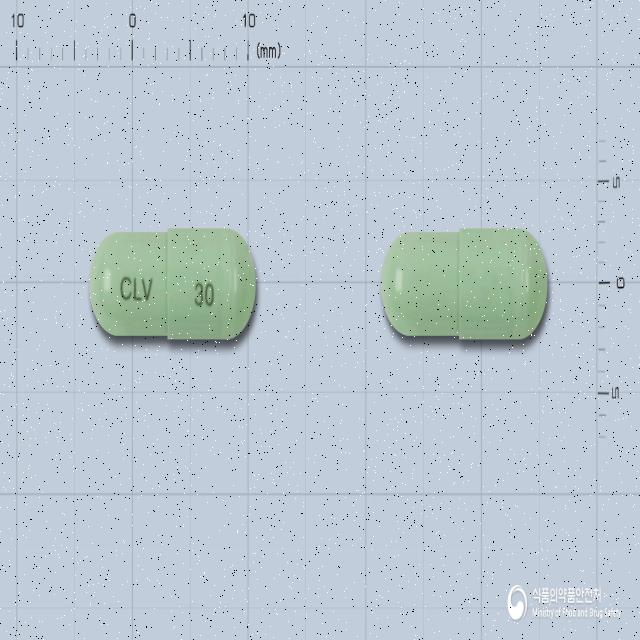Levovir Cap: (380, 225, 548, 341), (88, 227, 257, 341)
